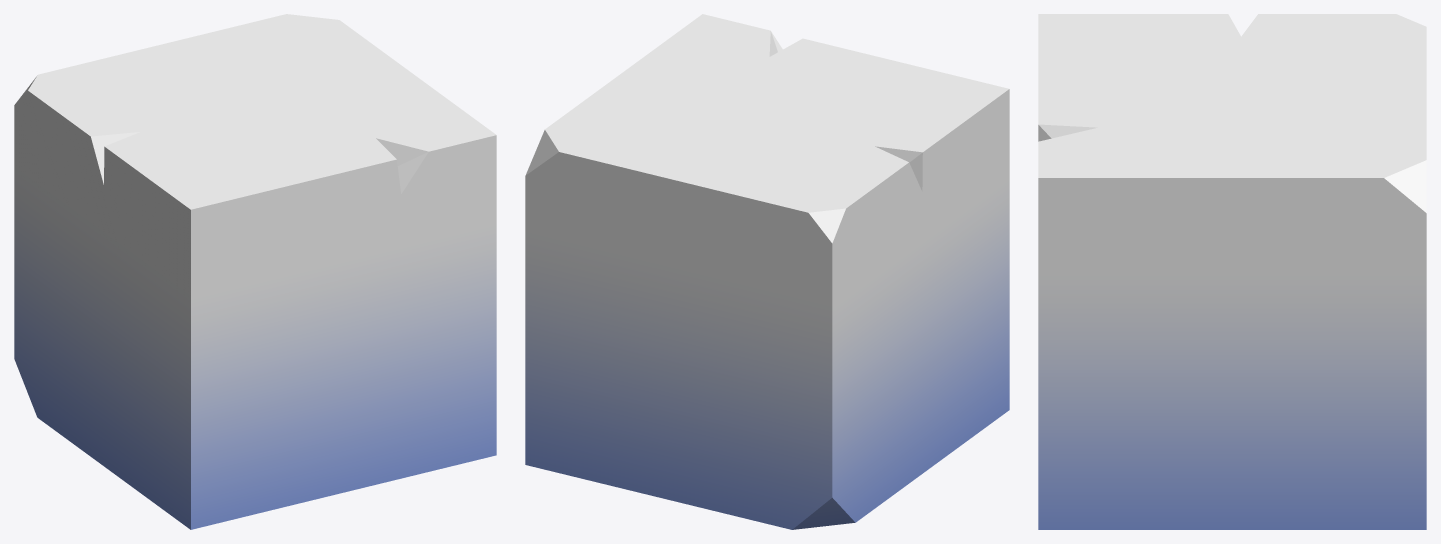
Rendered from Stone016.fbx.
The picture shows the model from 3 angles, left to right: view 1: azimuth 30°, elevation 25°; view 2: azimuth 150°, elevation 25°; view 3: azimuth 270°, elevation 25°; orthographic projection. The views are drawn at different scales.
Parts seen in each view (by area): view 1: Stone016; view 2: Stone016; view 3: Stone016.
Part boxes in pixels (x1,y1,x2,y2): Stone016: [14, 14, 496, 529]; Stone016: [525, 14, 1009, 529]; Stone016: [1038, 14, 1426, 529].
Size of the model in its own units: 156 by 156 by 156.
